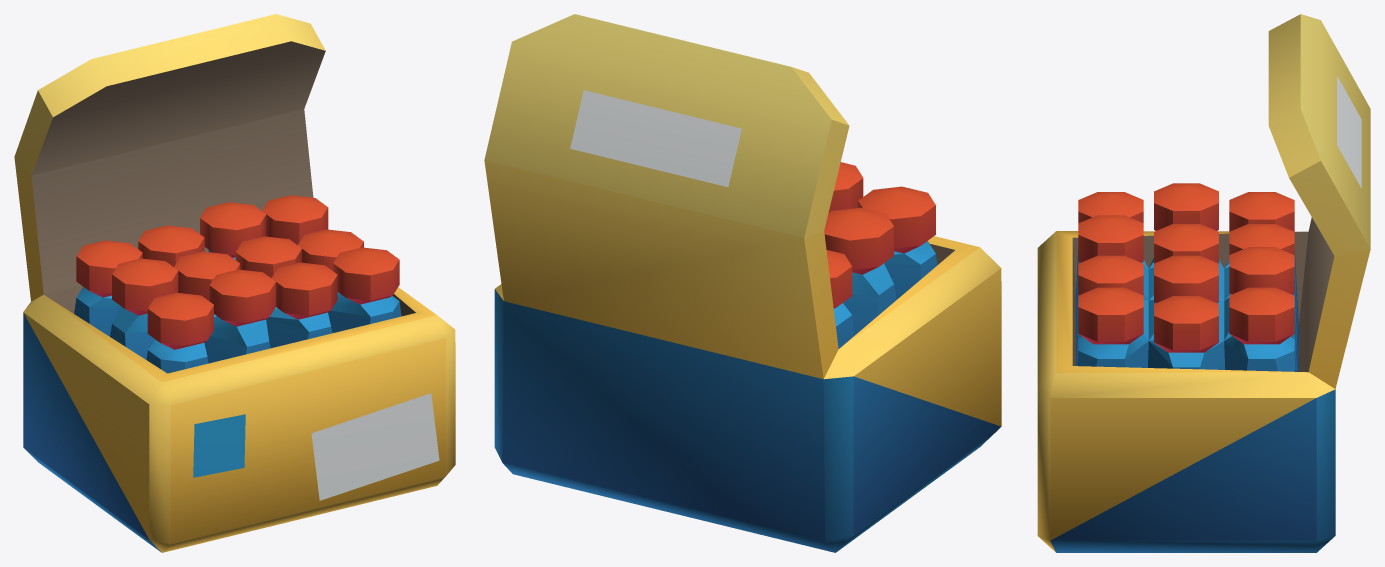
Rendered from Ammo_Box.glb.
3 renders of one model, left to right at view 1: azimuth 30°, elevation 25°; view 2: azimuth 150°, elevation 25°; view 3: azimuth 270°, elevation 25°, orthographic. The views are drawn at different scales.
Parts seen in each view (by area): view 1: Ammo_Box; view 2: Ammo_Box; view 3: Ammo_Box.
Boxes of the visible parts, x1,y1,x2,y2 form: Ammo_Box: (14, 14, 455, 552); Ammo_Box: (484, 14, 1001, 552); Ammo_Box: (1037, 14, 1370, 552).
Bounding box in the file's own units: 0.3962 × 0.4922 × 0.361.
Materials: 1 (1 with a texture image).
